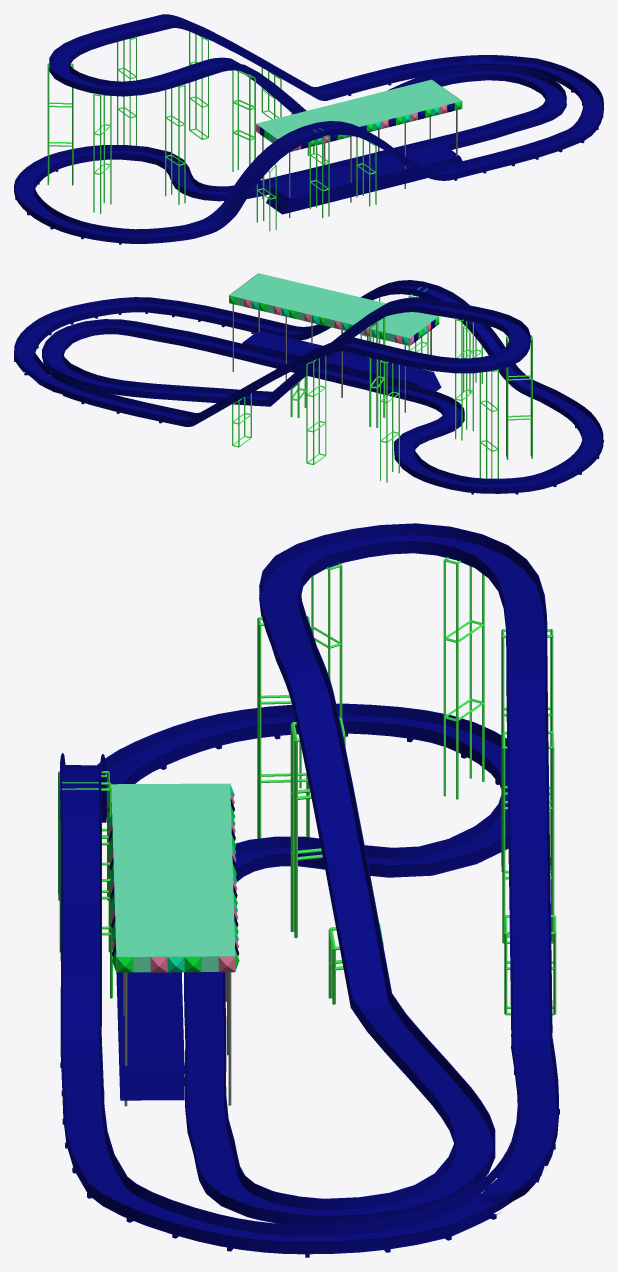
The model's file is MiniRC 1.fbx.
The picture shows the model from 3 angles, top to bottom: view 1: azimuth 30°, elevation 25°; view 2: azimuth 150°, elevation 25°; view 3: azimuth 270°, elevation 25°; orthographic projection. The views are drawn at different scales.
Parts seen in each view (by area): view 1: MiniRollerCoaster; view 2: MiniRollerCoaster; view 3: MiniRollerCoaster.
Boxes of the visible parts, left/top/right/bottom form: MiniRollerCoaster: left=14, top=14, right=603, bottom=244; MiniRollerCoaster: left=14, top=273, right=603, bottom=494; MiniRollerCoaster: left=58, top=523, right=559, bottom=1257.
Bounding box in the file's own units: 9244 × 2086 × 3638.
